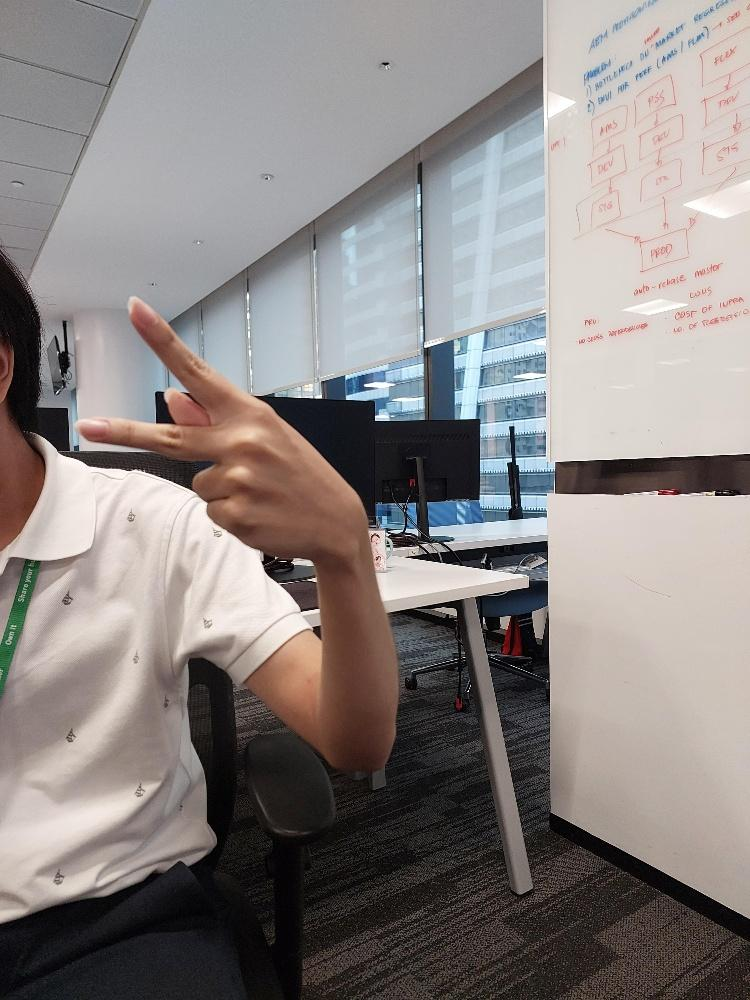k: (76, 294, 371, 571)
